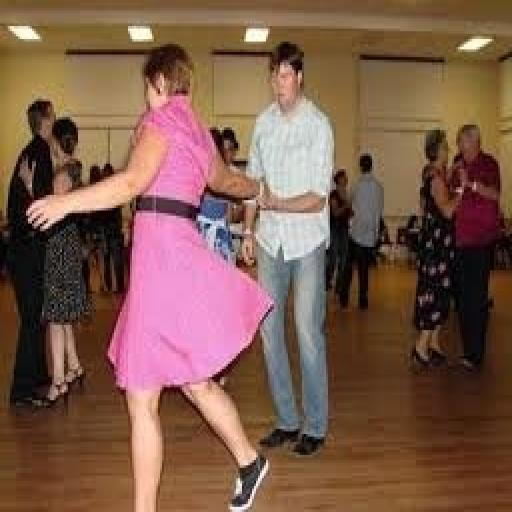dancing: (24, 42, 278, 510)
